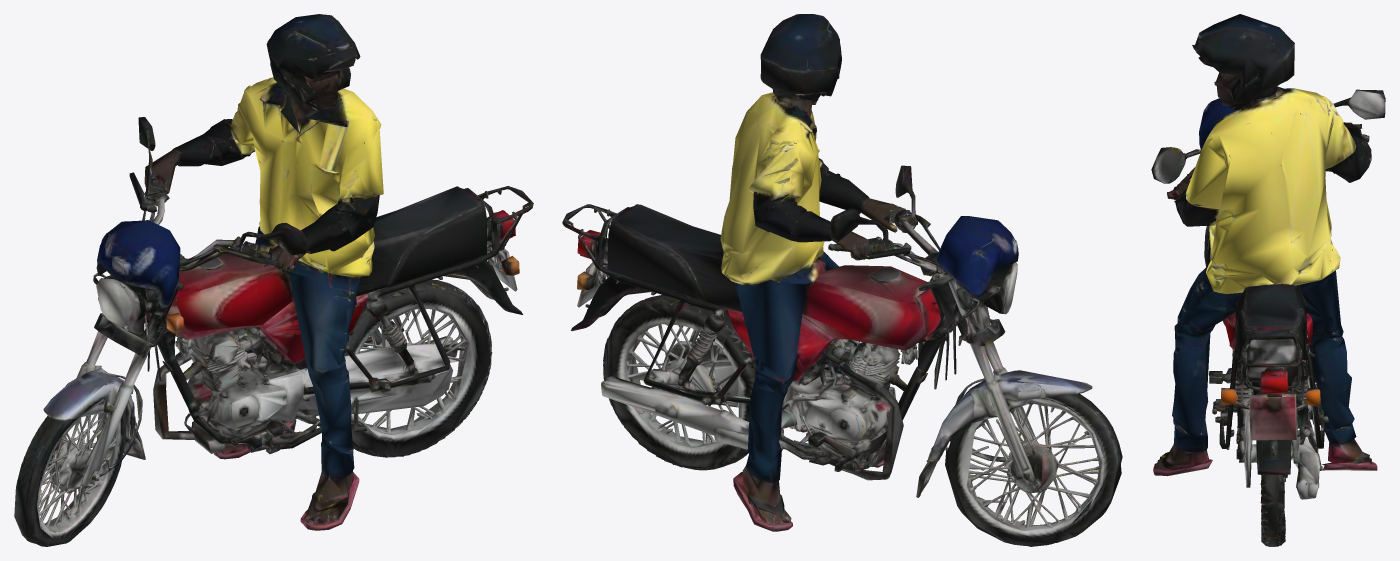
Rendered from kekenon.glb.
3 renders of one model, left to right at view 1: azimuth 30°, elevation 25°; view 2: azimuth 150°, elevation 25°; view 3: azimuth 270°, elevation 25°, orthographic. The views are drawn at different scales.
Size of the model in its own units: 1.89 by 1.59 by 0.7225.
Materials: 1 (1 with a texture image).
